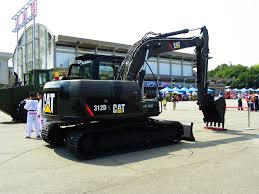excavator: (42, 24, 226, 161)
